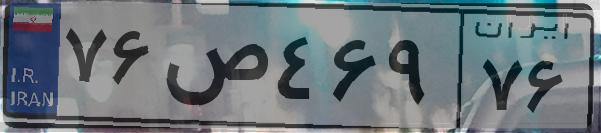4: (270, 28, 330, 110)
6: (330, 28, 385, 110), (525, 38, 570, 115), (110, 28, 158, 98)
7: (57, 26, 110, 100), (475, 38, 525, 113)
9: (385, 28, 445, 110)
ص: (158, 20, 270, 120)
